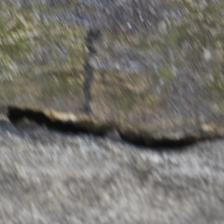Crack: (5, 50, 213, 112)
